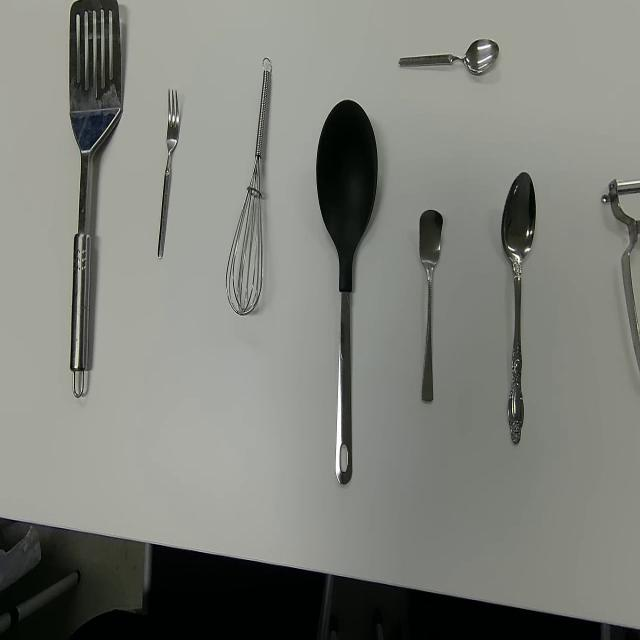Desert-Spoon: (500, 171, 537, 448)
Dinner-Fork: (156, 87, 180, 261)
Peeler: (600, 176, 640, 373)
Serving-Spoon: (315, 98, 379, 487), (68, 0, 123, 400)
Tea-Spoon: (418, 207, 444, 405), (397, 36, 500, 76)
Whisk: (225, 56, 273, 317)
